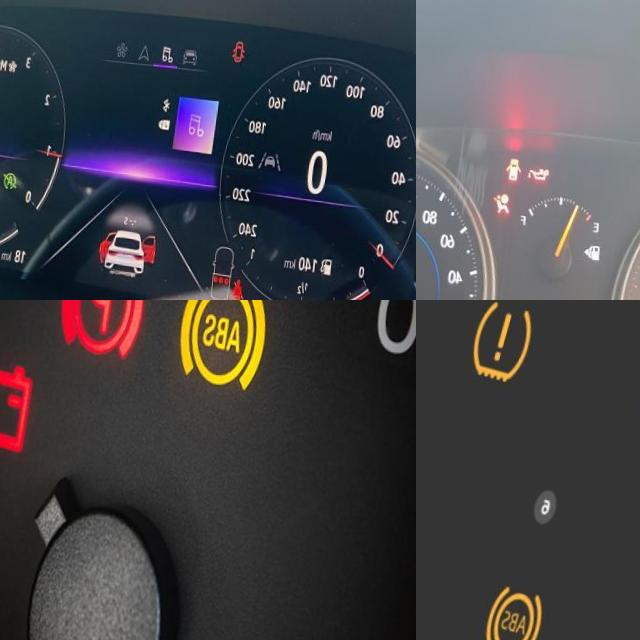Doors: (509, 152, 528, 177), (236, 33, 249, 56)
